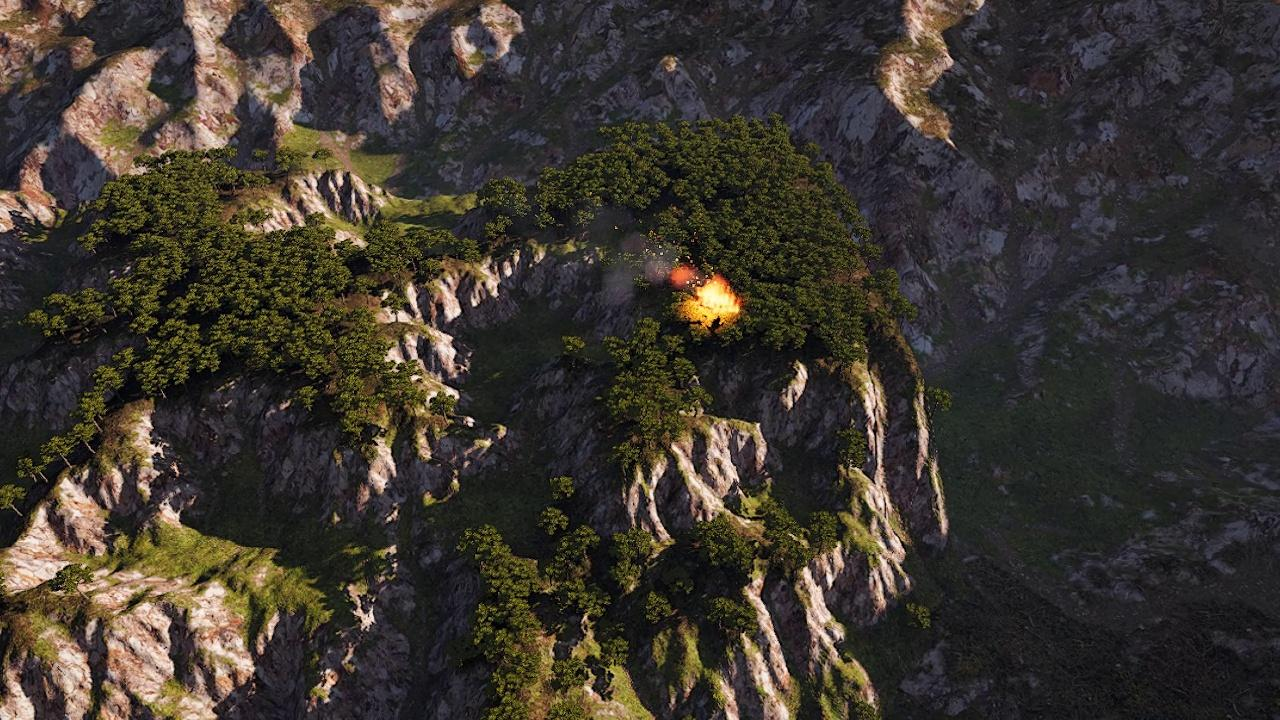fire: (693, 278, 740, 320)
smoke: (586, 214, 701, 301)
